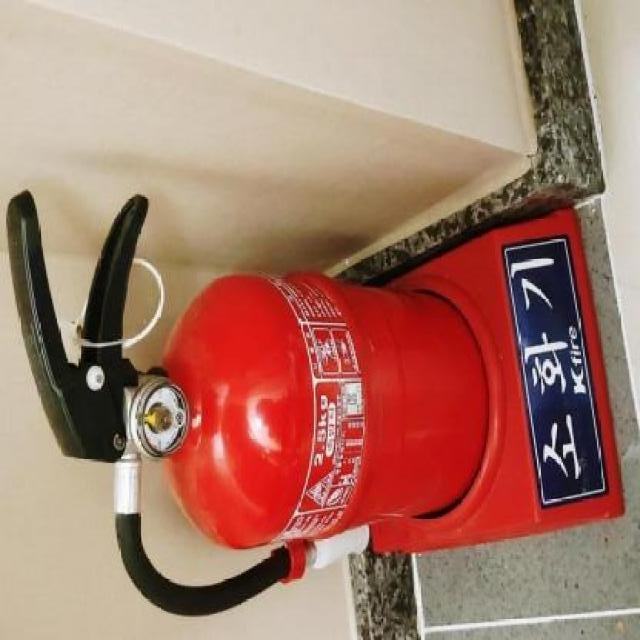fire extinguisher: (6, 190, 489, 618)
